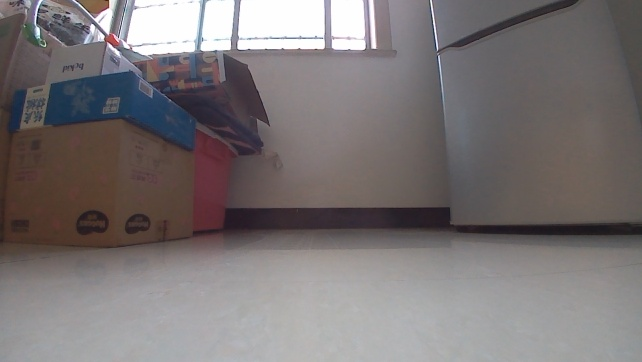refrigerator: (424, 0, 641, 235)
